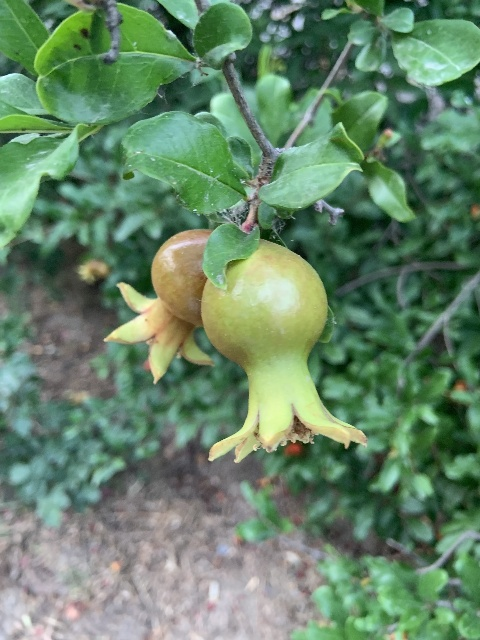early-fruit: (103, 228, 215, 383)
mid-growth: (200, 238, 368, 462)
